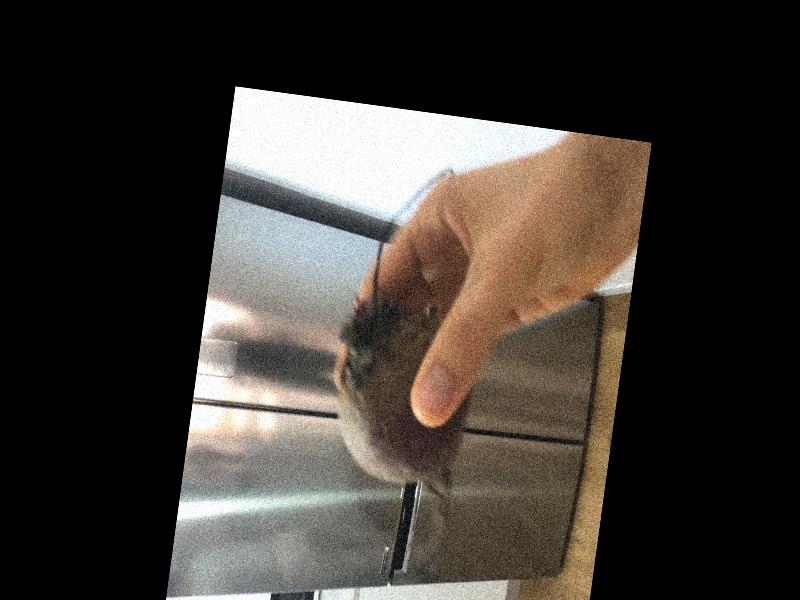Beet: (317, 157, 499, 521)
